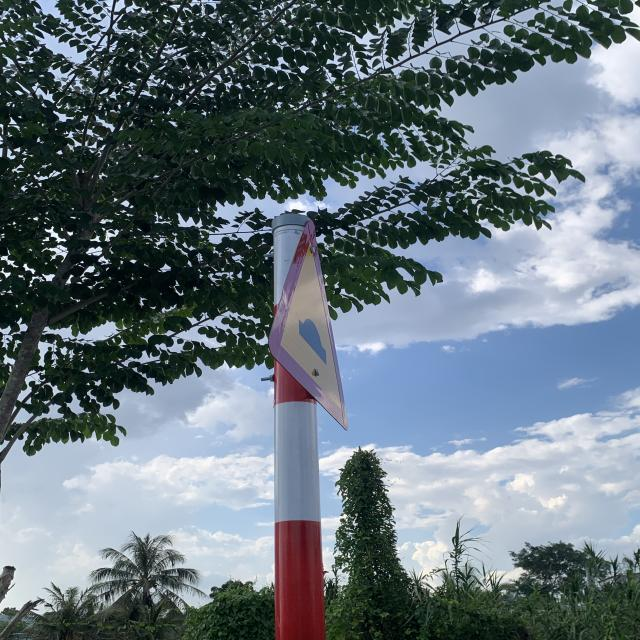Duong_Cong_Ben_Phai: (269, 217, 349, 432)
